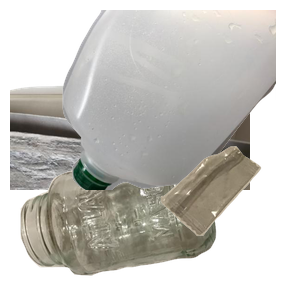glass: (18, 143, 227, 300)
paper: (10, 77, 250, 257)
plastic: (60, 10, 300, 190)
trash: (158, 144, 300, 300)
